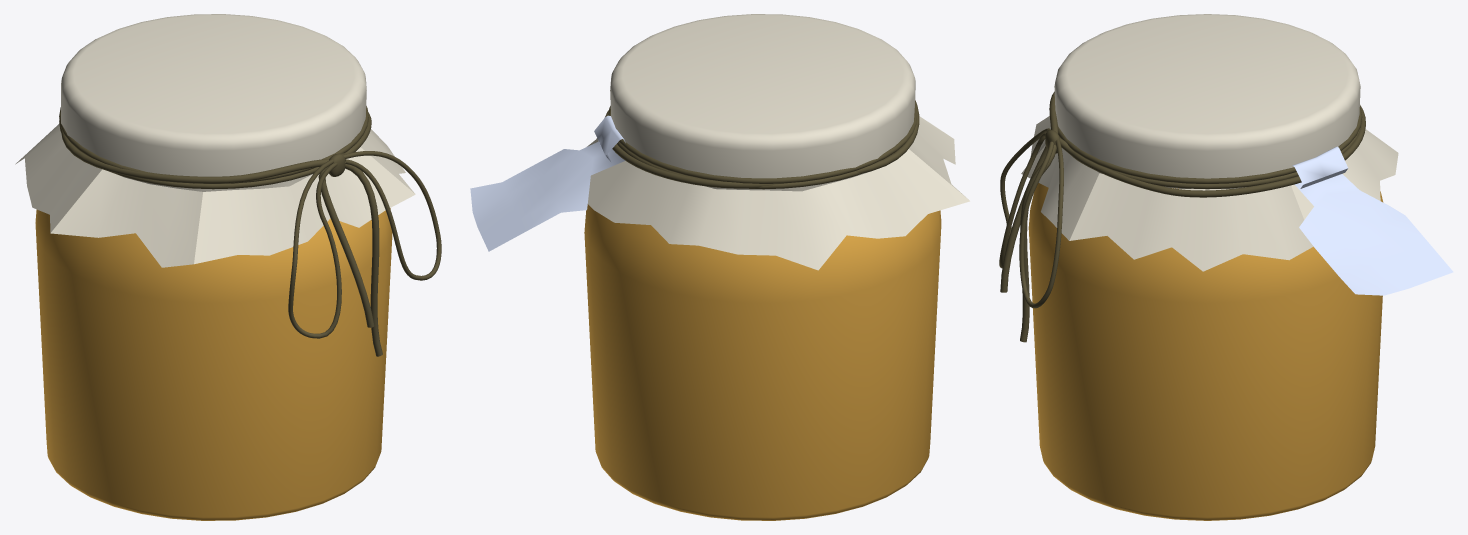
Rendered from honey.fbx.
3 views of the same model, side by side, from view 1: azimuth 30°, elevation 25°; view 2: azimuth 150°, elevation 25°; view 3: azimuth 270°, elevation 25° (orthographic).
Parts seen in each view (by area): view 1: Cylinder, Circle, BezierCurve.001, BezierCurve.002, BezierCurve, BezierCircle.001, BezierCircle; view 2: Cylinder, Circle, paper, BezierCircle, BezierCurve.001, BezierCircle.001; view 3: Cylinder, Circle, paper, BezierCurve.001, BezierCurve, BezierCircle, BezierCurve.002, BezierCircle.001.
Boxes of the visible parts, left/top/right/bottom form: Cylinder: left=35, top=208, right=392, bottom=520; Circle: left=15, top=14, right=415, bottom=267; BezierCurve.001: left=61, top=112, right=382, bottom=356; BezierCurve.002: left=288, top=159, right=341, bottom=338; BezierCurve: left=343, top=151, right=441, bottom=280; BezierCircle.001: left=59, top=120, right=368, bottom=189; BezierCircle: left=59, top=106, right=368, bottom=183; Cylinder: left=584, top=204, right=941, bottom=520; Circle: left=587, top=14, right=969, bottom=270; paper: left=470, top=115, right=625, bottom=251; BezierCircle: left=608, top=106, right=916, bottom=183; BezierCurve.001: left=605, top=99, right=919, bottom=188; BezierCircle.001: left=617, top=141, right=893, bottom=189; Cylinder: left=1028, top=183, right=1383, bottom=520; Circle: left=1021, top=14, right=1398, bottom=271; paper: left=1292, top=146, right=1453, bottom=295; BezierCurve.001: left=1000, top=91, right=1365, bottom=342; BezierCurve: left=1019, top=139, right=1063, bottom=308; BezierCircle: left=1057, top=106, right=1362, bottom=183; BezierCurve.002: left=999, top=128, right=1050, bottom=268; BezierCircle.001: left=1110, top=128, right=1360, bottom=189.
Size of the model in its own units: 25.88 by 23.13 by 25.22.
